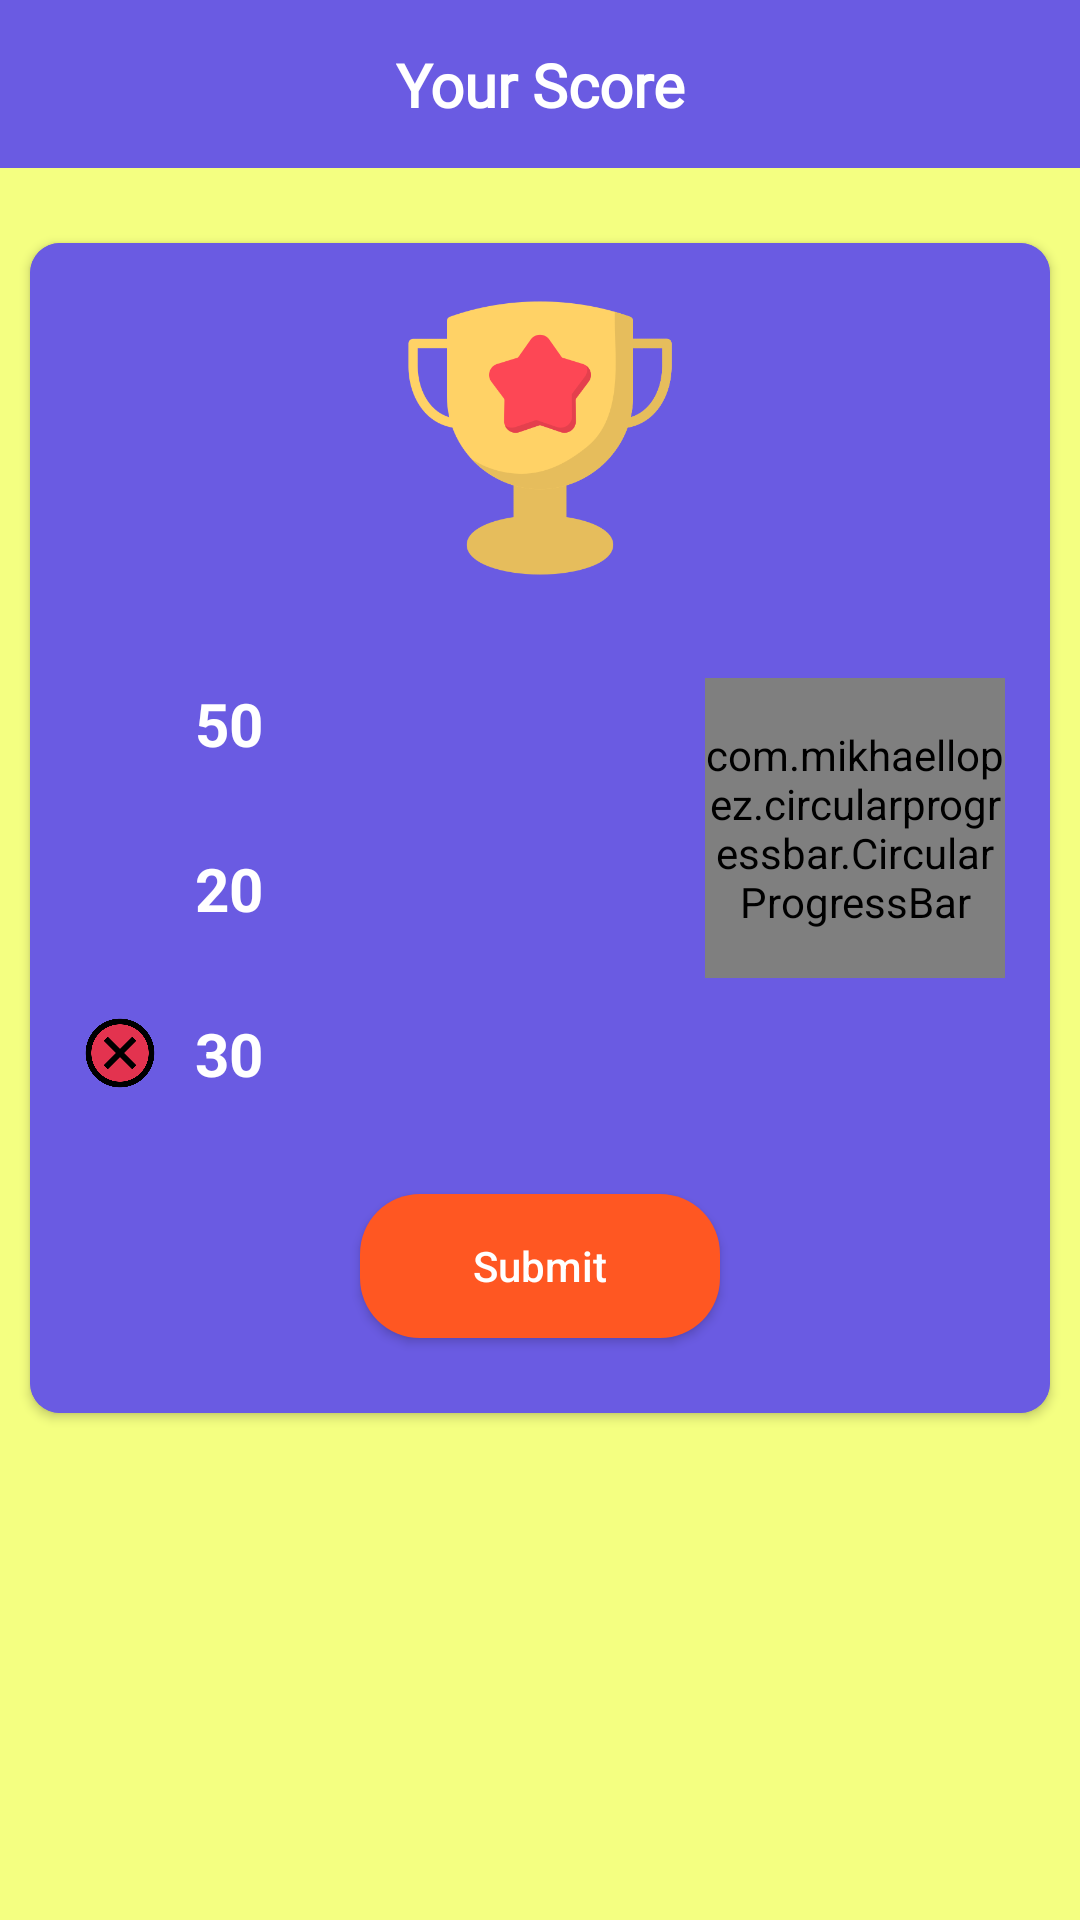

Screen size 1080px x 1920px. Icon name, then its center in pixels as (x=x, y=y):
decline: (x=120, y=1053)
reward: (x=540, y=438)
